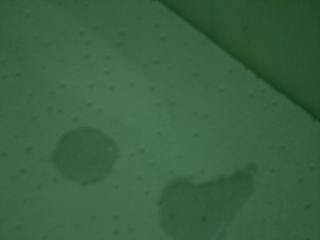Water_detected: (49, 127, 109, 186), (158, 181, 218, 228)
